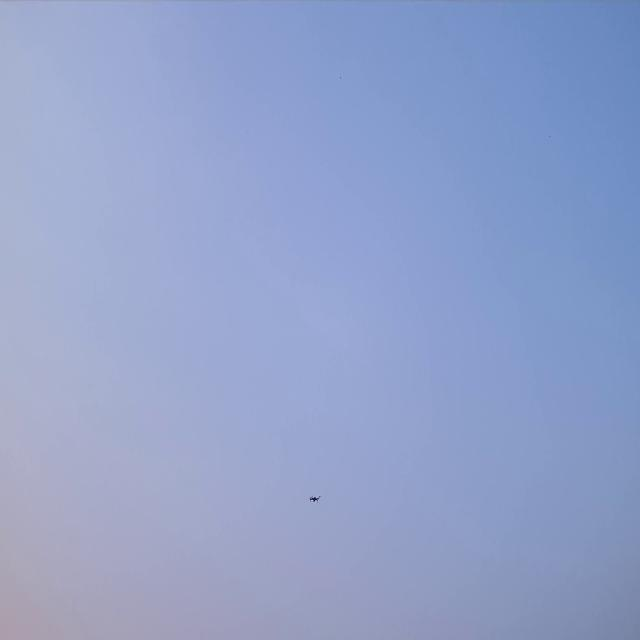UAV: (308, 492, 322, 504)
